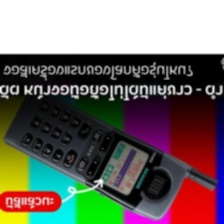phone: (1, 82, 221, 221)
